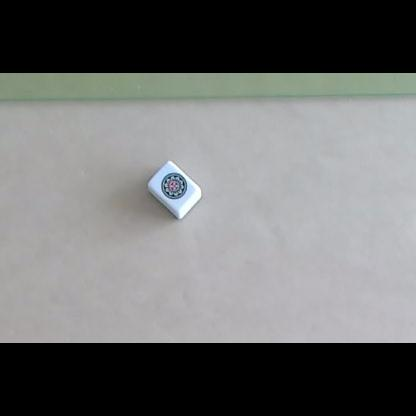1p: (161, 172, 189, 199)
